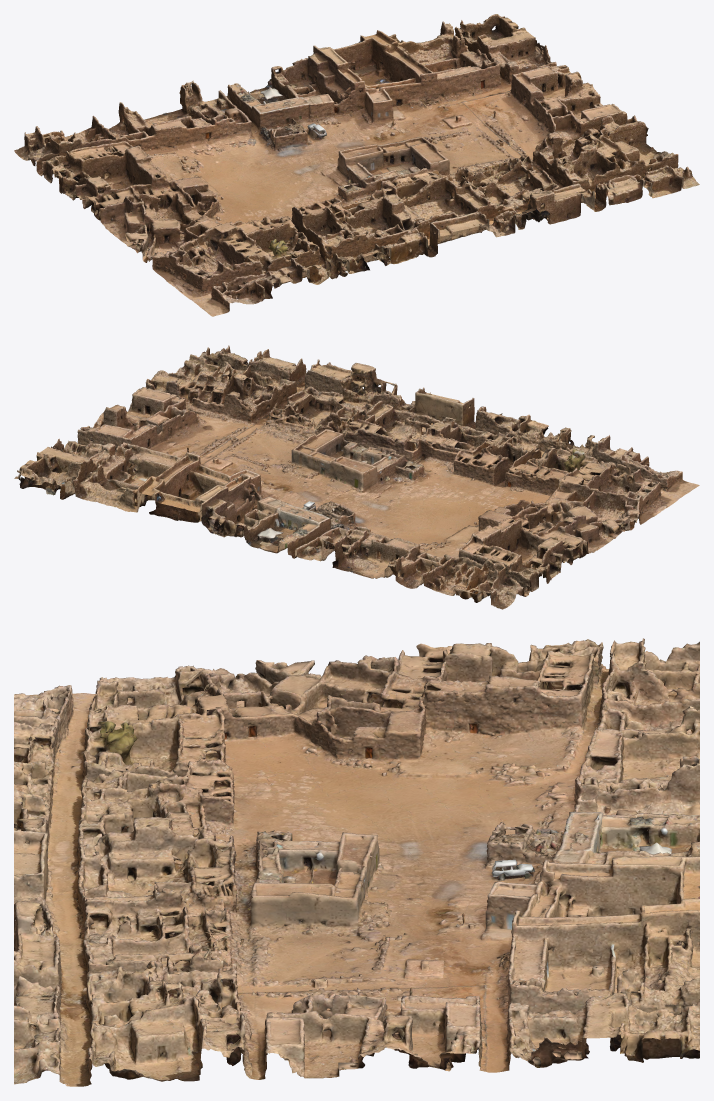
The picture shows the model from 3 angles, top to bottom: view 1: azimuth 30°, elevation 25°; view 2: azimuth 150°, elevation 25°; view 3: azimuth 270°, elevation 25°; orthographic projection. The views are drawn at different scales.
Visible parts, largest first — view 1: MRT_001_M5_Place1; view 2: MRT_001_M5_Place1; view 3: MRT_001_M5_Place1.
Part boxes in pixels (x1,y1,x2,y2): MRT_001_M5_Place1: (14,14,699,316); MRT_001_M5_Place1: (14,345,699,609); MRT_001_M5_Place1: (14,638,699,1086).
Bounding box in the file's own units: 110 × 11.51 × 77.7.
Materials: 1 (1 with a texture image).
